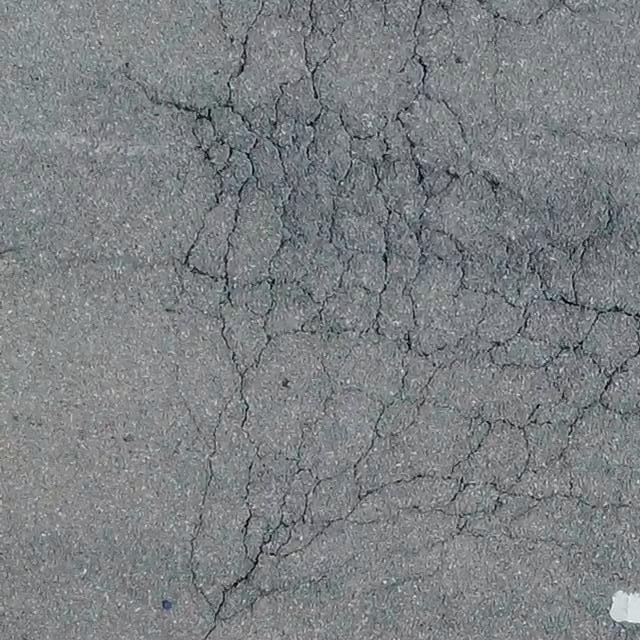GRIETA: (0, 247, 170, 270)
PIEL DE COCODRILO: (128, 0, 639, 639)
